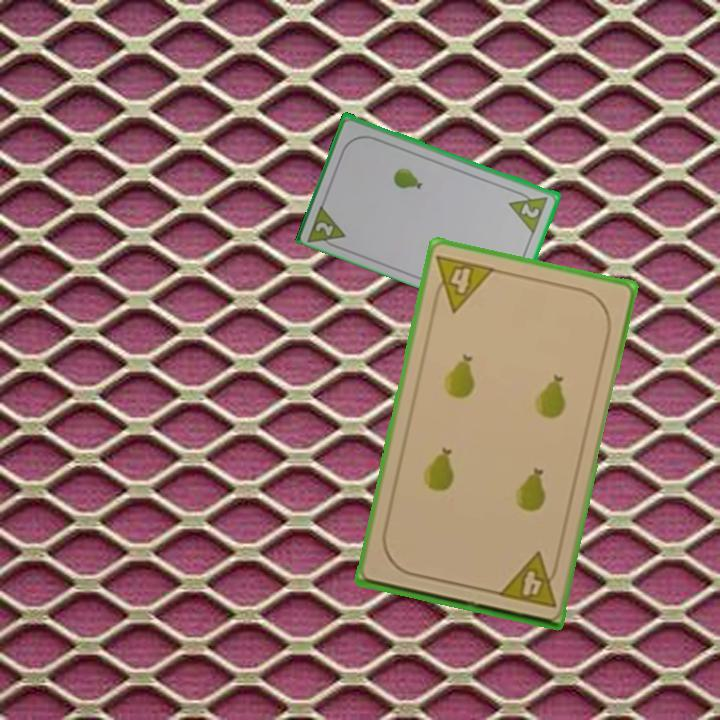2p: (304, 199, 349, 253), (506, 186, 551, 235)
4p: (428, 251, 498, 315), (494, 549, 562, 611)
